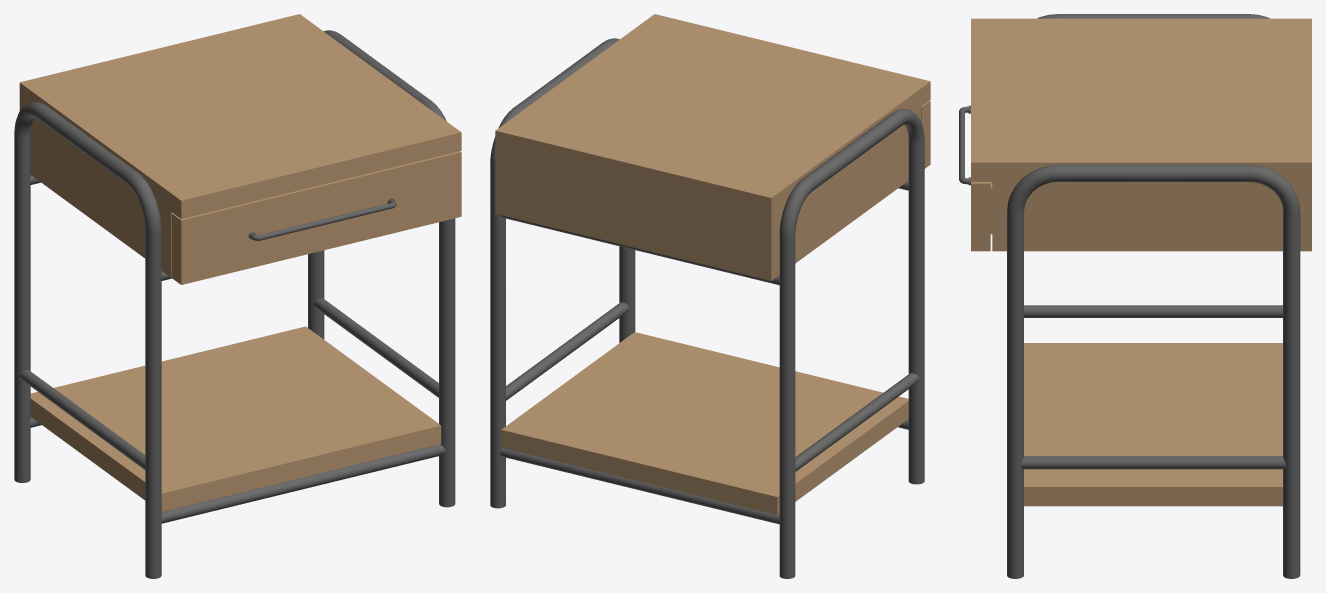
File: 482_サイドテーブル.glb
3 views of the same model, side by side, from view 1: azimuth 30°, elevation 25°; view 2: azimuth 150°, elevation 25°; view 3: azimuth 270°, elevation 25° (orthographic). The views are drawn at different scales.
Visible parts, largest first — view 1: body, hikidashi; view 2: body; view 3: body, hikidashi.
Part boxes in pixels (box(x1,y1,x2,y2)): body: box(14, 14, 461, 578); hikidashi: box(172, 151, 461, 284); body: box(490, 14, 930, 578); body: box(971, 14, 1311, 578); hikidashi: box(959, 105, 992, 251).
Bounding box in the file's own units: 0.4392 × 0.5305 × 0.4141.
